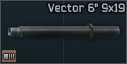KRISS Vector 9x19 6 inch barrel: (0, 0, 127, 64)
